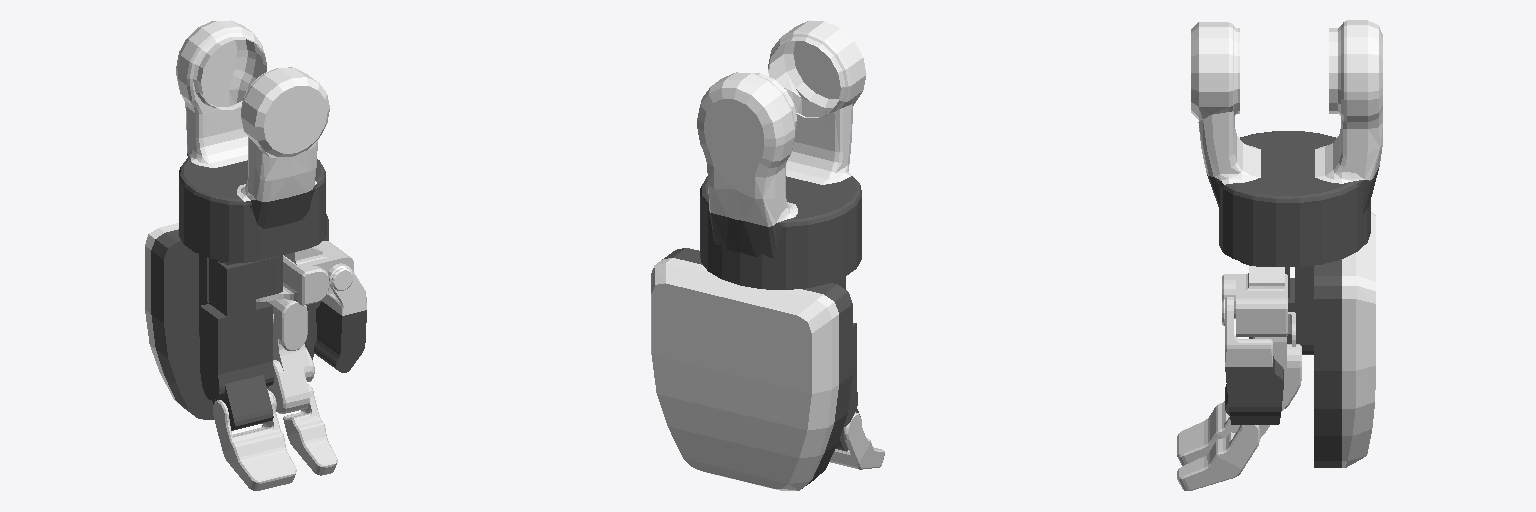
URDF robot description (HRP3HAND_L):
<?xml version="1.0"?>
<robot name="HRP3HAND_L"
       xmlns:xi="http://www.w3.org/2001/XInclude"
       >
  <link name="LARM_LINK6">
    <visual>
      <origin xyz="0 0 0" rpy="0 -0 0"/>
      <geometry>
        <mesh filename="package://hrpsys_ros_bridge_tutorials/models/HRP3HAND_L_meshes/LARM_LINK6_mesh.dae" scale="1 1 1" />
      </geometry>
    </visual>
    <collision>
      <origin xyz="0 0 0" rpy="0 -0 0"/>
      <geometry>
        <mesh filename="package://hrpsys_ros_bridge_tutorials/models/HRP3HAND_L_meshes/LARM_LINK6_mesh.dae" scale="1 1 1" />
      </geometry>
    </collision>
    <inertial>
      <mass value="1.33256" />
      <origin xyz="0.00067085 0.00738842 -0.085722" rpy="0 -0 0"/>
      <inertia ixx="0.00227076" ixy="6.3e-07" ixz="3.217e-05" iyy="0.00214173" iyz="-3.72e-06" izz="0.00067255"/>
    </inertial>
  </link>
  <gazebo reference="LARM_LINK6">
    <mu1>0.9</mu1>
    <mu2>0.9</mu2>
  </gazebo>
  <link name="L_INDEXMP_R_LINK">
    <visual>
      <origin xyz="0 -0.0102 -0.1547" rpy="0 -0 0"/>
      <geometry>
        <mesh filename="package://hrpsys_ros_bridge_tutorials/models/HRP3HAND_L_meshes/L_INDEXMP_R_LINK_mesh.dae" scale="1 1 1" />
      </geometry>
    </visual>
    <collision>
      <origin xyz="0 -0.0102 -0.1547" rpy="0 -0 0"/>
      <geometry>
        <mesh filename="package://hrpsys_ros_bridge_tutorials/models/HRP3HAND_L_meshes/L_INDEXMP_R_LINK_mesh.dae" scale="1 1 1" />
      </geometry>
    </collision>
    <inertial>
      <mass value="0.0158629" />
      <origin xyz="0.00509194 0.00581104 6.273e-05" rpy="0 -0 0"/>
      <inertia ixx="9.9e-07" ixy="-7.6e-07" ixz="-7.94093e-23" iyy="1.61e-06" iyz="-1e-08" izz="2.16e-06"/>
    </inertial>
  </link>
  <gazebo reference="L_INDEXMP_R_LINK">
    <mu1>0.9</mu1>
    <mu2>0.9</mu2>
  </gazebo>
  <link name="L_INDEXMP_P_LINK">
    <visual>
      <origin xyz="0.02 0 0" rpy="0 -0 0"/>
      <geometry>
        <mesh filename="package://hrpsys_ros_bridge_tutorials/models/HRP3HAND_L_meshes/L_INDEXMP_P_LINK_mesh.dae" scale="1 1 1" />
      </geometry>
    </visual>
    <collision>
      <origin xyz="0.02 0 0" rpy="0 -0 0"/>
      <geometry>
        <mesh filename="package://hrpsys_ros_bridge_tutorials/models/HRP3HAND_L_meshes/L_INDEXMP_P_LINK_mesh.dae" scale="1 1 1" />
      </geometry>
    </collision>
    <inertial>
      <mass value="0.106231" />
      <origin xyz="-0.00078463 -0.00129762 -0.0281757" rpy="0 -0 0"/>
      <inertia ixx="5.089e-05" ixy="-6.2e-07" ixz="-1.87e-06" iyy="4.739e-05" iyz="-1.05e-05" izz="1.005e-05"/>
    </inertial>
  </link>
  <gazebo reference="L_INDEXMP_P_LINK">
    <mu1>0.9</mu1>
    <mu2>0.9</mu2>
  </gazebo>
  <link name="L_INDEXPIP_R_LINK">
    <visual>
      <origin xyz="0 -0.01125 -0.055" rpy="0 -0 0"/>
      <geometry>
        <mesh filename="package://hrpsys_ros_bridge_tutorials/models/HRP3HAND_L_meshes/L_INDEXPIP_R_LINK_mesh.dae" scale="1 1 1" />
      </geometry>
    </visual>
    <collision>
      <origin xyz="0 -0.01125 -0.055" rpy="0 -0 0"/>
      <geometry>
        <mesh filename="package://hrpsys_ros_bridge_tutorials/models/HRP3HAND_L_meshes/L_INDEXPIP_R_LINK_mesh.dae" scale="1 1 1" />
      </geometry>
    </collision>
    <inertial>
      <mass value="0.0215832" />
      <origin xyz="0.0210676 -0.0134797 -0.0204042" rpy="0 -0 0"/>
      <inertia ixx="4.06e-06" ixy="-2.2e-07" ixz="-2.9e-07" iyy="2.34e-06" iyz="-1.55e-06" izz="3.05e-06"/>
    </inertial>
  </link>
  <gazebo reference="L_INDEXPIP_R_LINK">
    <mu1>0.9</mu1>
    <mu2>0.9</mu2>
  </gazebo>
  <link name="L_MIDDLEPIP_R_LINK">
    <visual>
      <origin xyz="0 -0.02145 -0.2097" rpy="0 -0 0"/>
      <geometry>
        <mesh filename="package://hrpsys_ros_bridge_tutorials/models/HRP3HAND_L_meshes/L_MIDDLEPIP_R_LINK_mesh.dae" scale="1 1 1" />
      </geometry>
    </visual>
    <collision>
      <origin xyz="0 -0.02145 -0.2097" rpy="0 -0 0"/>
      <geometry>
        <mesh filename="package://hrpsys_ros_bridge_tutorials/models/HRP3HAND_L_meshes/L_MIDDLEPIP_R_LINK_mesh.dae" scale="1 1 1" />
      </geometry>
    </collision>
    <inertial>
      <mass value="0.0367086" />
      <origin xyz="-0.0171953 -0.0140037 -0.0195553" rpy="0 -0 0"/>
      <inertia ixx="9.9e-06" ixy="-6.2e-07" ixz="-8.7e-07" iyy="1.003e-05" iyz="-3.95e-06" izz="1.043e-05"/>
    </inertial>
  </link>
  <gazebo reference="L_MIDDLEPIP_R_LINK">
    <mu1>0.9</mu1>
    <mu2>0.9</mu2>
  </gazebo>
  <link name="L_THUMBCM_Y_LINK">
    <visual>
      <origin xyz="0 -0.0102 -0.1292" rpy="0 -0 0"/>
      <geometry>
        <mesh filename="package://hrpsys_ros_bridge_tutorials/models/HRP3HAND_L_meshes/L_THUMBCM_Y_LINK_mesh.dae" scale="1 1 1" />
      </geometry>
    </visual>
    <collision>
      <origin xyz="0 -0.0102 -0.1292" rpy="0 -0 0"/>
      <geometry>
        <mesh filename="package://hrpsys_ros_bridge_tutorials/models/HRP3HAND_L_meshes/L_THUMBCM_Y_LINK_mesh.dae" scale="1 1 1" />
      </geometry>
    </collision>
    <inertial>
      <mass value="0.10048" />
      <origin xyz="0.0314882 -0.00644999 0.00140644" rpy="0 -0 0"/>
      <inertia ixx="1.432e-05" ixy="4.7e-07" ixz="5.4e-07" iyy="2.66e-05" iyz="-7.1e-07" izz="2.697e-05"/>
    </inertial>
  </link>
  <gazebo reference="L_THUMBCM_Y_LINK">
    <mu1>0.9</mu1>
    <mu2>0.9</mu2>
  </gazebo>
  <link name="L_THUMBCM_P_LINK">
    <visual>
      <origin xyz="0.045 0 0" rpy="0 -0 0"/>
      <geometry>
        <mesh filename="package://hrpsys_ros_bridge_tutorials/models/HRP3HAND_L_meshes/L_THUMBCM_P_LINK_mesh.dae" scale="1 1 1" />
      </geometry>
    </visual>
    <collision>
      <origin xyz="0.045 0 0" rpy="0 -0 0"/>
      <geometry>
        <mesh filename="package://hrpsys_ros_bridge_tutorials/models/HRP3HAND_L_meshes/L_THUMBCM_P_LINK_mesh.dae" scale="1 1 1" />
      </geometry>
    </collision>
    <inertial>
      <mass value="0.0483845" />
      <origin xyz="0.00682086 -0.013234 -0.0305205" rpy="0 -0 0"/>
      <inertia ixx="2.302e-05" ixy="-3.2e-07" ixz="-9.9e-07" iyy="2.227e-05" iyz="1.88e-06" izz="4.84e-06"/>
    </inertial>
  </link>
  <gazebo reference="L_THUMBCM_P_LINK">
    <mu1>0.9</mu1>
    <mu2>0.9</mu2>
  </gazebo>
  <joint name="L_INDEXMP_R" type="revolute">
    <parent link="LARM_LINK6"/>
    <child  link="L_INDEXMP_R_LINK"/>
    <origin xyz="0 -0.0102 -0.1547" rpy="0 -0 0 "/>
    <axis   xyz="-1 0 0"/>
    <limit lower="-0.261799" upper="1.6057" effort="100" velocity="0.5" />
    <dynamics damping="0.2" friction="0" />
  </joint>
  <transmission type="pr2_mechanism_model/SimpleTransmission" name="L_INDEXMP_R_trans" >
    <actuator name="L_INDEXMP_R_motor" />
    <joint name="L_INDEXMP_R" />
    <mechanicalReduction>1</mechanicalReduction>
  </transmission>
  <gazebo reference="L_INDEXMP_R">
    <cfmDamping>0.4</cfmDamping>
  </gazebo>
  <joint name="L_INDEXMP_P" type="revolute">
    <parent link="L_INDEXMP_R_LINK"/>
    <child  link="L_INDEXMP_P_LINK"/>
    <origin xyz="0.02 0 0" rpy="0 -0 0 "/>
    <axis   xyz="0 -1 0"/>
    <limit lower="-0" upper="1.5708" effort="100" velocity="0.5" />
    <dynamics damping="0.2" friction="0" />
  </joint>
  <transmission type="pr2_mechanism_model/SimpleTransmission" name="L_INDEXMP_P_trans" >
    <actuator name="L_INDEXMP_P_motor" />
    <joint name="L_INDEXMP_P" />
    <mechanicalReduction>1</mechanicalReduction>
  </transmission>
  <gazebo reference="L_INDEXMP_P">
    <cfmDamping>0.4</cfmDamping>
  </gazebo>
  <joint name="L_INDEXPIP_R" type="revolute">
    <parent link="L_INDEXMP_P_LINK"/>
    <child  link="L_INDEXPIP_R_LINK"/>
    <origin xyz="0 -0.01125 -0.055" rpy="0 -0 0 "/>
    <axis   xyz="-1 0 0"/>
    <limit lower="-0.698132" upper="2.00713" effort="100" velocity="0.5" />
    <dynamics damping="0.2" friction="0" />
  </joint>
  <transmission type="pr2_mechanism_model/SimpleTransmission" name="L_INDEXPIP_R_trans" >
    <actuator name="L_INDEXPIP_R_motor" />
    <joint name="L_INDEXPIP_R" />
    <mechanicalReduction>1</mechanicalReduction>
  </transmission>
  <gazebo reference="L_INDEXPIP_R">
    <cfmDamping>0.4</cfmDamping>
  </gazebo>
  <joint name="L_MIDDLEPIP_R" type="revolute">
    <parent link="LARM_LINK6"/>
    <child  link="L_MIDDLEPIP_R_LINK"/>
    <origin xyz="0 -0.02145 -0.2097" rpy="0 -0 0 "/>
    <axis   xyz="-1 0 0"/>
    <limit lower="-0.698132" upper="2.00713" effort="100" velocity="0.5" />
    <dynamics damping="0.2" friction="0" />
  </joint>
  <transmission type="pr2_mechanism_model/SimpleTransmission" name="L_MIDDLEPIP_R_trans" >
    <actuator name="L_MIDDLEPIP_R_motor" />
    <joint name="L_MIDDLEPIP_R" />
    <mechanicalReduction>1</mechanicalReduction>
  </transmission>
  <gazebo reference="L_MIDDLEPIP_R">
    <cfmDamping>0.4</cfmDamping>
  </gazebo>
  <joint name="L_THUMBCM_Y" type="revolute">
    <parent link="LARM_LINK6"/>
    <child  link="L_THUMBCM_Y_LINK"/>
    <origin xyz="0 -0.0102 -0.1292" rpy="0 -0 0 "/>
    <axis   xyz="0 0 -1"/>
    <limit lower="-0.261799" upper="1.6057" effort="100" velocity="0.5" />
    <dynamics damping="0.2" friction="0" />
  </joint>
  <transmission type="pr2_mechanism_model/SimpleTransmission" name="L_THUMBCM_Y_trans" >
    <actuator name="L_THUMBCM_Y_motor" />
    <joint name="L_THUMBCM_Y" />
    <mechanicalReduction>1</mechanicalReduction>
  </transmission>
  <gazebo reference="L_THUMBCM_Y">
    <cfmDamping>0.4</cfmDamping>
  </gazebo>
  <joint name="L_THUMBCM_P" type="revolute">
    <parent link="L_THUMBCM_Y_LINK"/>
    <child  link="L_THUMBCM_P_LINK"/>
    <origin xyz="0.045 0 0" rpy="0 -0 0 "/>
    <axis   xyz="0 -1 0"/>
    <limit lower="-0.523599" upper="1.6057" effort="100" velocity="0.5" />
    <dynamics damping="0.2" friction="0" />
  </joint>
  <transmission type="pr2_mechanism_model/SimpleTransmission" name="L_THUMBCM_P_trans" >
    <actuator name="L_THUMBCM_P_motor" />
    <joint name="L_THUMBCM_P" />
    <mechanicalReduction>1</mechanicalReduction>
  </transmission>
  <gazebo reference="L_THUMBCM_P">
    <cfmDamping>0.4</cfmDamping>
  </gazebo>
</robot>

--- Facts derived from the render (not from the file) ---
3 views of the same robot in one strip: view 1: azimuth 30°, elevation 25°; view 2: azimuth 150°, elevation 25°; view 3: azimuth 270°, elevation 25° (orthographic).
Model HRP3HAND_L with 7 links and 6 joints (6 revolute), rooted at LARM_LINK6, posed all joints at 0.
Links seen in each view (by area): view 1: LARM_LINK6, L_THUMBCM_P_LINK, L_MIDDLEPIP_R_LINK, L_INDEXMP_P_LINK, L_THUMBCM_Y_LINK, L_INDEXPIP_R_LINK; view 2: LARM_LINK6, L_MIDDLEPIP_R_LINK; view 3: LARM_LINK6, L_THUMBCM_P_LINK, L_THUMBCM_Y_LINK, L_INDEXPIP_R_LINK, L_MIDDLEPIP_R_LINK, L_INDEXMP_P_LINK.
Link boxes in pixels (x1=…): LARM_LINK6: x1=145, y1=20, x2=329, y2=430; L_THUMBCM_P_LINK: x1=314, y1=263, x2=366, y2=372; L_MIDDLEPIP_R_LINK: x1=213, y1=389, x2=296, y2=490; L_INDEXMP_P_LINK: x1=268, y1=299, x2=314, y2=413; L_THUMBCM_Y_LINK: x1=256, y1=241, x2=353, y2=305; L_INDEXPIP_R_LINK: x1=283, y1=384, x2=337, y2=475; LARM_LINK6: x1=651, y1=20, x2=866, y2=490; L_MIDDLEPIP_R_LINK: x1=830, y1=412, x2=884, y2=469; LARM_LINK6: x1=1191, y1=20, x2=1382, y2=467; L_THUMBCM_P_LINK: x1=1222, y1=297, x2=1283, y2=424; L_THUMBCM_Y_LINK: x1=1222, y1=266, x2=1287, y2=336; L_INDEXPIP_R_LINK: x1=1177, y1=425, x2=1259, y2=490; L_MIDDLEPIP_R_LINK: x1=1177, y1=401, x2=1234, y2=465; L_INDEXMP_P_LINK: x1=1233, y1=337, x2=1301, y2=438.
Size in the robot's own frame: 0.12 by 0.116 by 0.2781 metres.
7 mesh visuals loaded from 7 distinct referenced files (7 Collada DAE).